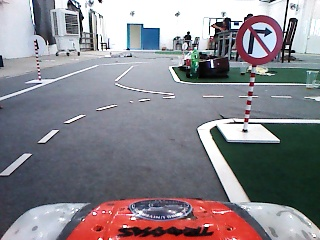ban_right: (236, 15, 284, 65)
